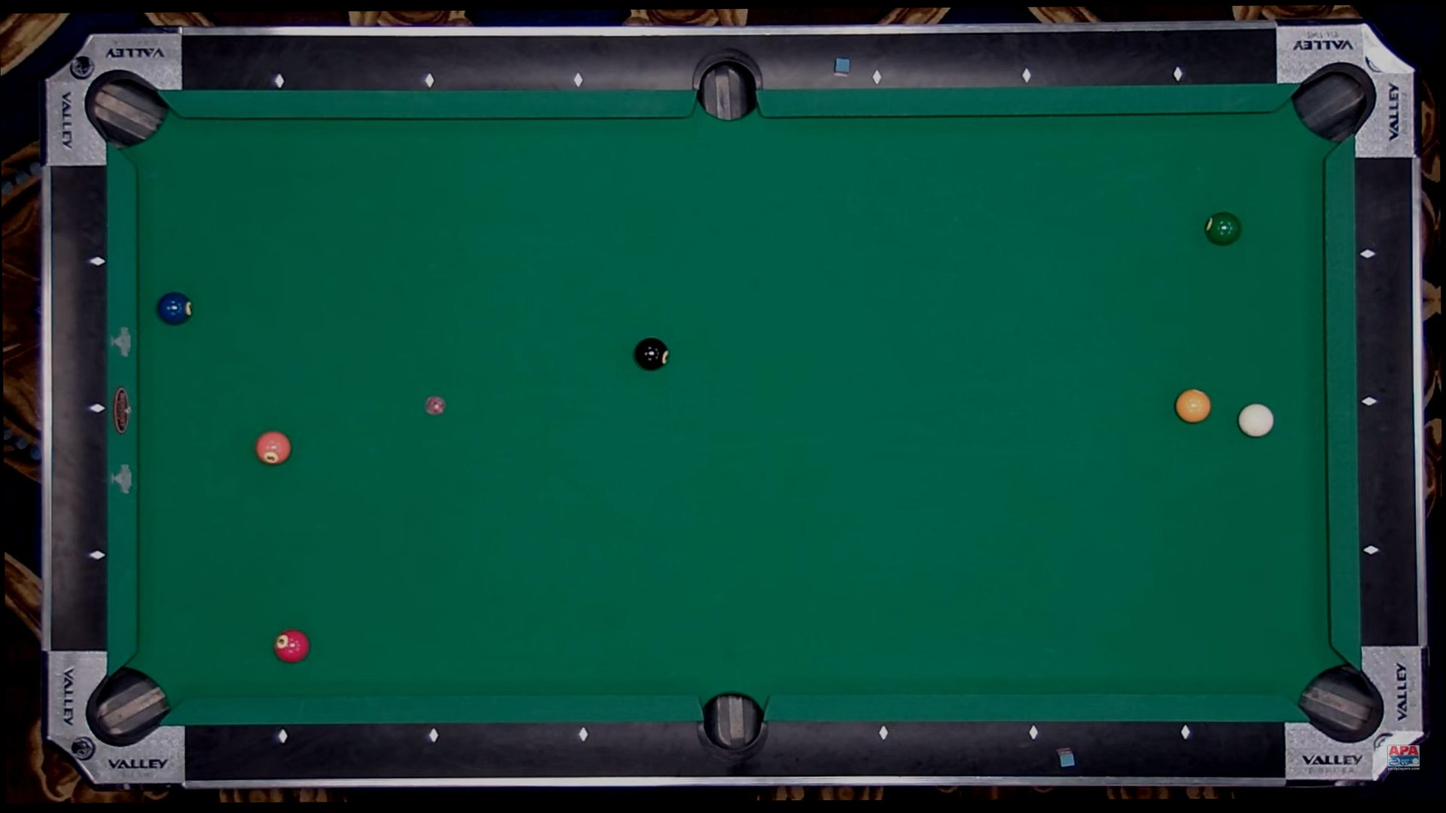Black: (635, 338, 670, 371)
Cue: (1238, 403, 1274, 437)
Solid: (91, 550, 102, 561), (92, 403, 103, 414), (92, 256, 103, 267), (274, 76, 285, 87), (424, 75, 435, 86), (573, 75, 584, 86), (872, 72, 883, 83), (1173, 69, 1183, 80), (1362, 249, 1372, 260), (1366, 546, 1377, 556), (1180, 728, 1191, 738), (878, 728, 888, 739), (578, 729, 588, 740), (427, 730, 438, 740), (276, 730, 287, 740), (1022, 71, 1032, 81), (1364, 397, 1374, 407), (1028, 728, 1038, 738)
Striped: (1204, 212, 1242, 247), (156, 291, 192, 326), (1175, 389, 1211, 423), (274, 629, 310, 663), (256, 431, 291, 465)
